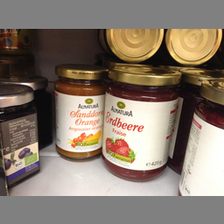jam: (103, 67, 182, 181), (54, 63, 104, 162), (1, 82, 41, 192)
